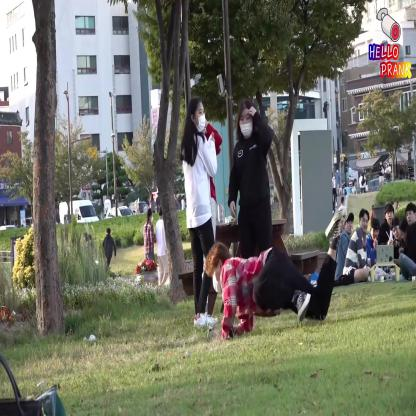Fall_Down: (205, 209, 346, 342)
